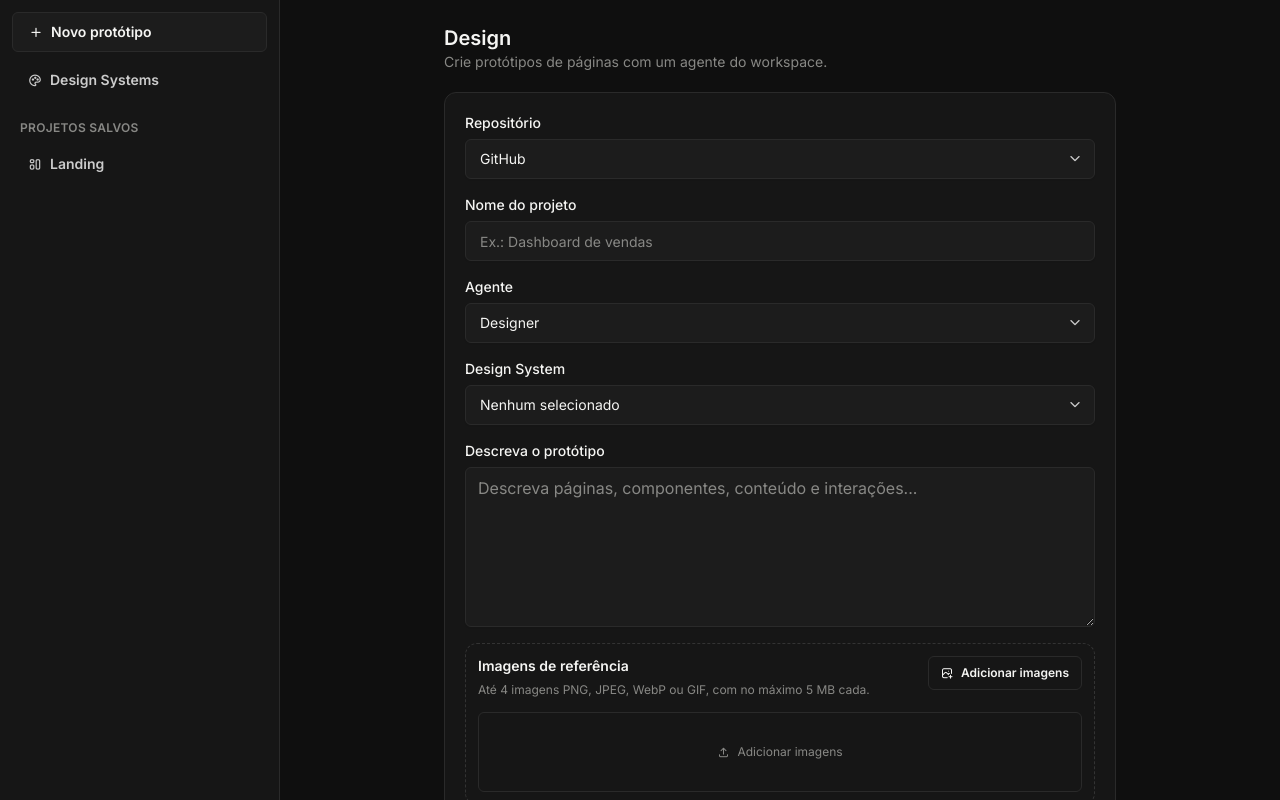
Scenario: DesignView loading › keeps the design systems empty when they cannot be loaded
Expected: the text "Landing" is shown, [50, 154, 104, 174]
Click the button "Design Systems": point(140, 80) [12, 60, 267, 100]
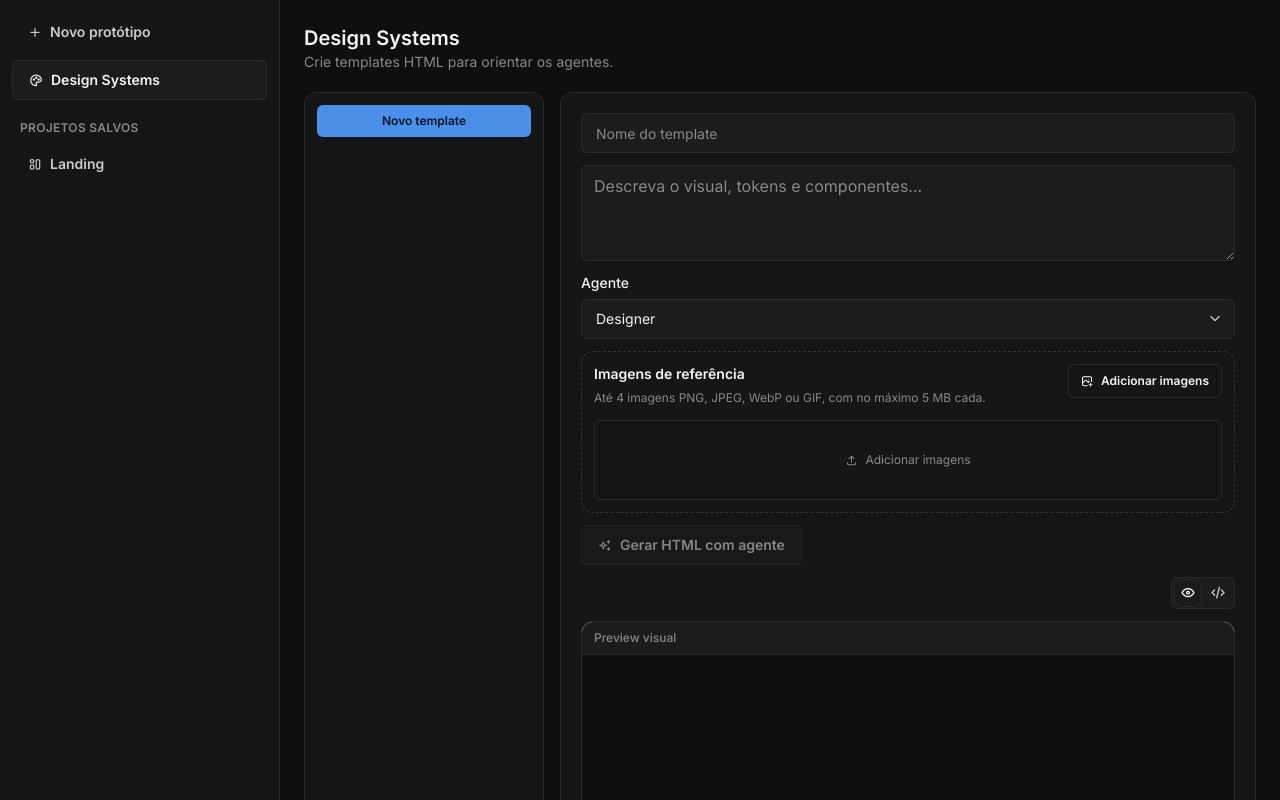
Now the button "Novo template" is shown, box [317, 105, 531, 137]
